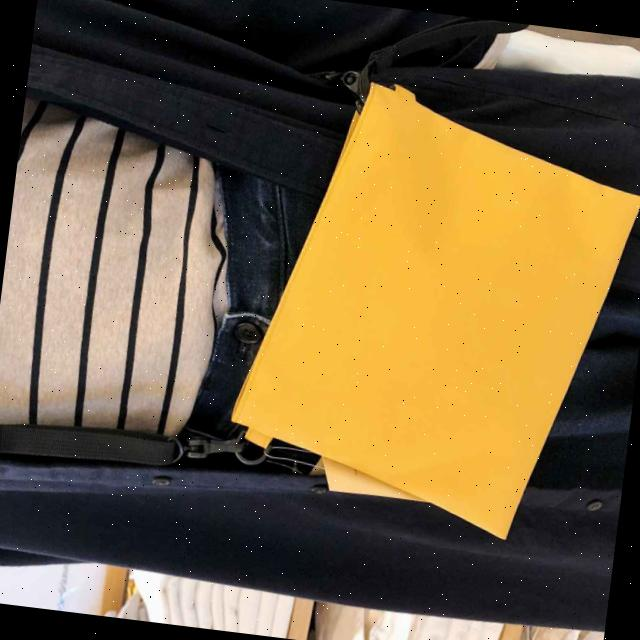Handbag: (168, 43, 640, 550)
